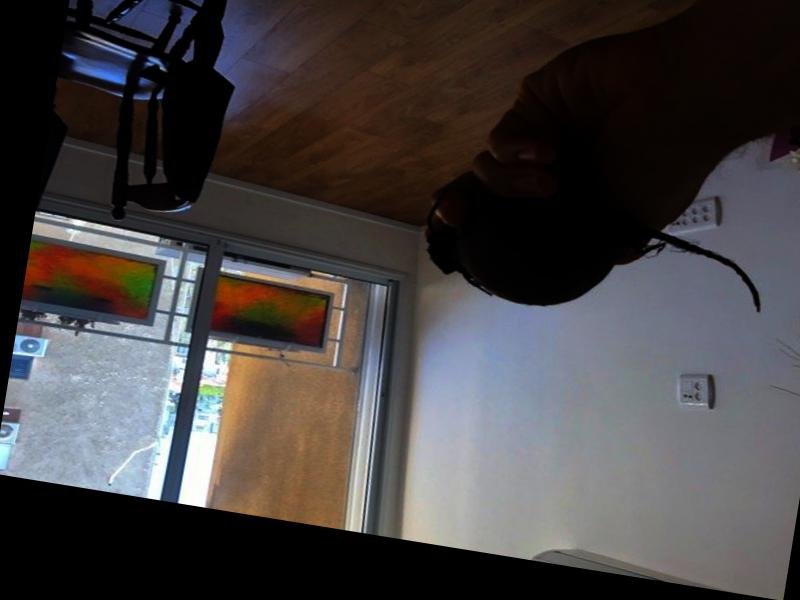Beet: (414, 174, 770, 339)
